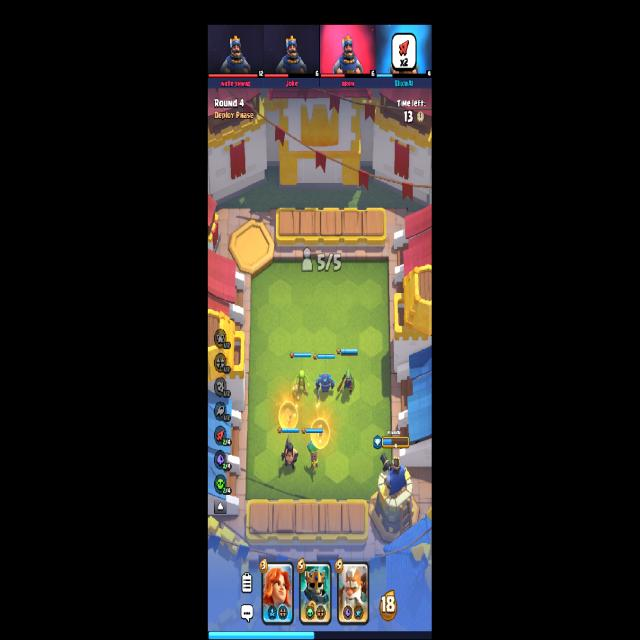bandit: (337, 369, 355, 395)
card_monk: (337, 562, 369, 626)
card_skeleton_king: (299, 562, 331, 624)
card_valkyrie: (260, 560, 294, 624)
dart_goblin: (307, 439, 320, 472)
executioner: (281, 434, 298, 470)
goblin: (294, 370, 310, 393)
mini_pekka: (316, 372, 336, 402)
